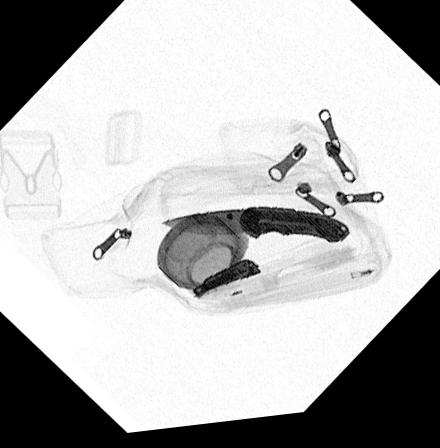Knife: (158, 211, 349, 251)
